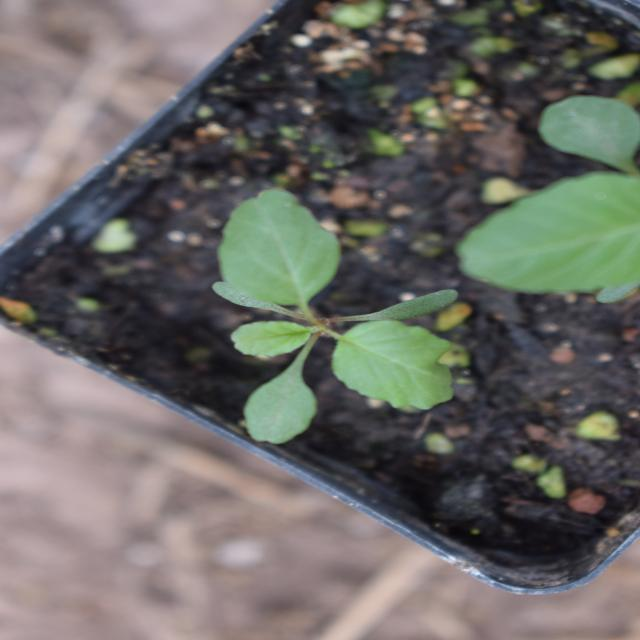pigweed: (172, 188, 454, 445)
